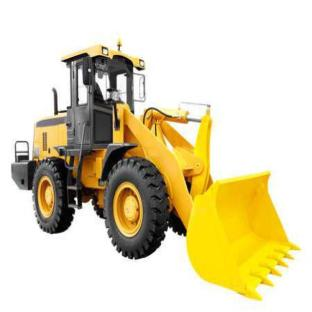ExcavationMachinery: (37, 22, 301, 297)
